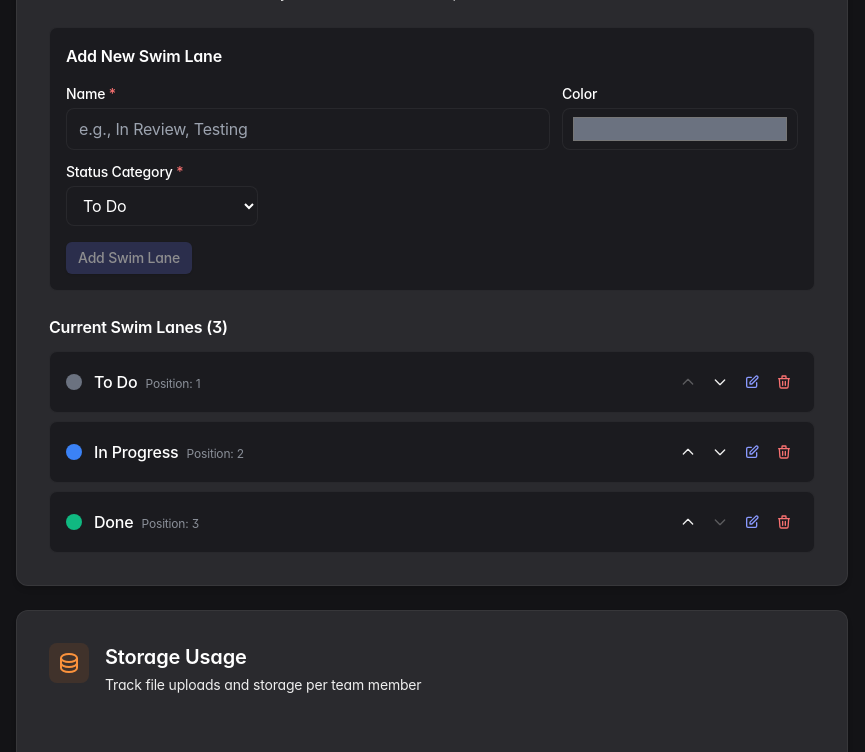
ProjectSettings › Swim Lanes › edits a swim lane
(page scrolled)
Click the button titled "Edit" in the row of "To Do": (752, 382) x1=738 y1=368 x2=766 y2=396
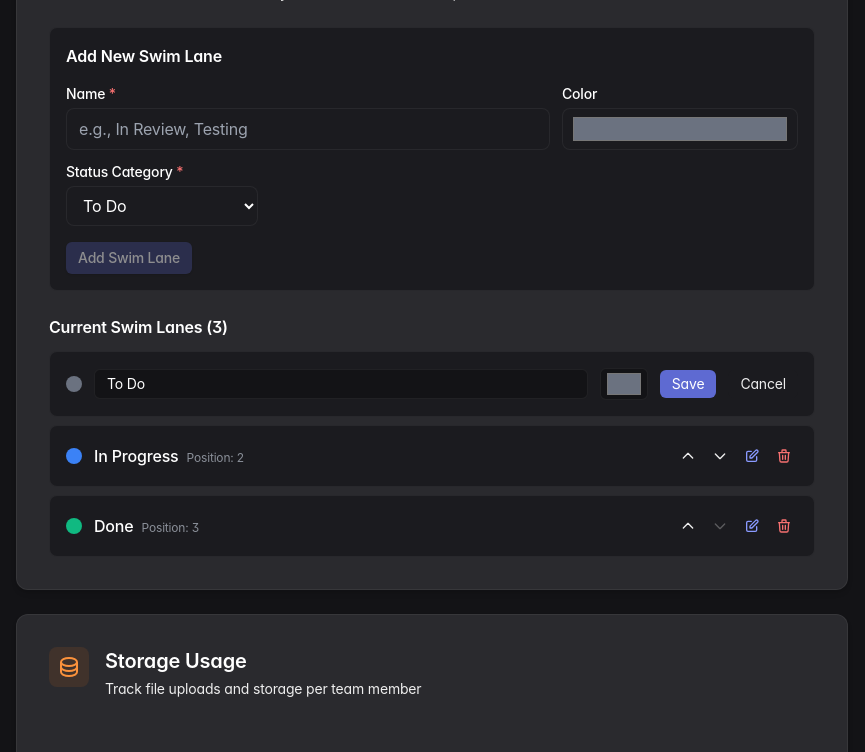
Expected: the button "Save" is shown, x1=660 y1=370 x2=716 y2=398
